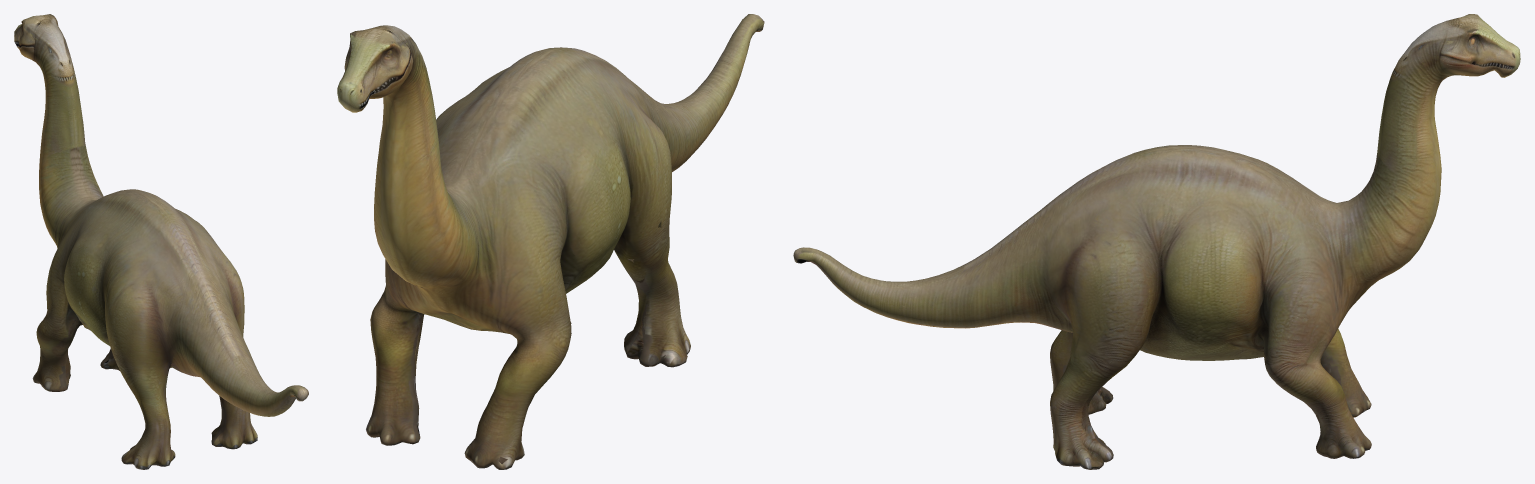
The model's file is brontosaurus.glb.
3 views of the same model, side by side, from view 1: azimuth 30°, elevation 25°; view 2: azimuth 150°, elevation 25°; view 3: azimuth 270°, elevation 25° (orthographic). The views are drawn at different scales.
Bounding box in the file's own units: 0.5327 × 1.25 × 2.
1 material, 1 textured.
